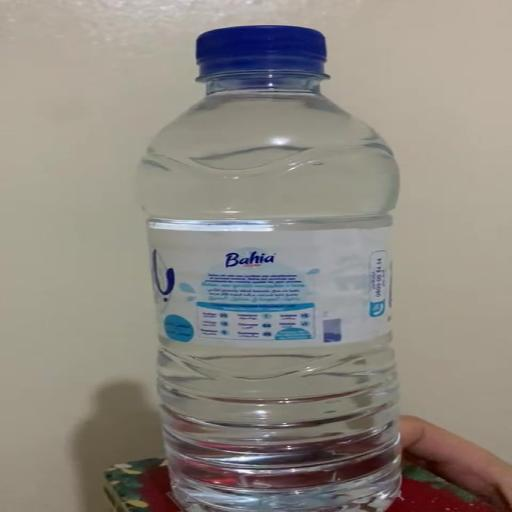bouteille conformite: (139, 25, 399, 511)
